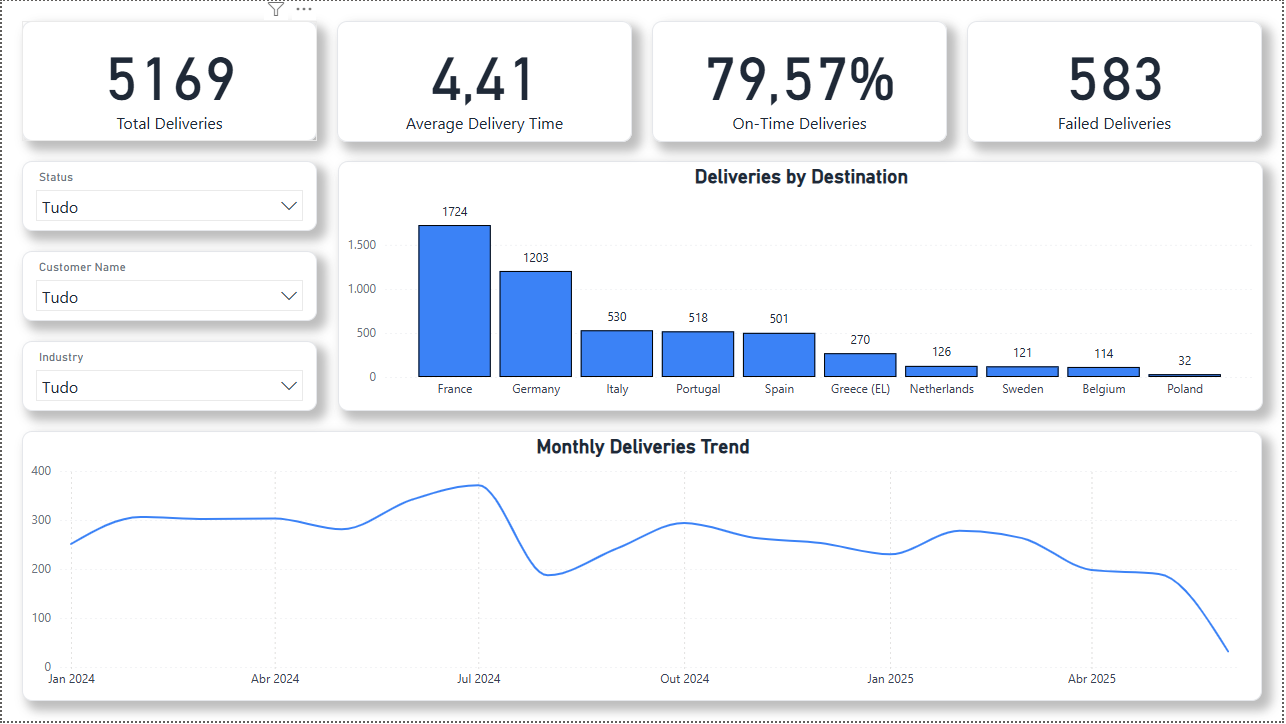

What the dashboard file says about the page in this screenshot:
{"tool":"powerbi","page":{"name":"Delivery Overview","canvas":[1280,720],"ordinal":0},"visuals":[{"type":"card","fields":{"Values":["MeasuresTable.TotalDeliveries"]},"box":[20,20.4,295,120],"z":0},{"type":"columnChart","title":"Deliveries by Destination","fields":{"Category":["Routes.Destination"],"Y":["Deliveries_Clean.Delivery_ID"]},"box":[335.6,160,925,250],"z":1000},{"type":"card","fields":{"Values":["MeasuresTable.Avg_Delivery_Time"]},"box":[335,20.4,295,120.6],"z":2000},{"type":"card","fields":{"Values":["MeasuresTable.%_On-Time_Deliveries"]},"box":[650,20,295,120.6],"z":3000},{"type":"card","fields":{"Values":["MeasuresTable.FailedDeliveries"]},"box":[965,20,295,120.6],"z":4000},{"type":"lineChart","title":"Monthly Deliveries Trend","fields":{"Category":["Deliveries_Clean.Delivery_Date.Variação.Hierarquia de Datas.Ano","Deliveries_Clean.Delivery_Date.Variação.Hierarquia de Datas.Mês"],"Y":["Deliveries_Clean.Delivery_ID"]},"box":[20.4,430,1240,270],"z":5000},{"type":"slicer","fields":{"Values":["Customers.Industry"]},"box":[20.4,340,295,70],"z":6000},{"type":"slicer","fields":{"Values":["Customers.Name"]},"box":[20.4,250,295,70],"z":7000},{"type":"slicer","fields":{"Values":["Deliveries_Clean.Status"]},"box":[20.4,160,295,70],"z":8000}]}

Visuals, with their boxes in screenshot pixels (x1, y1, x2, y2), scaled from the page's 1280x720 canvas onto the 1286x724 screenshot:
card - MeasuresTable.TotalDeliveries: box(20, 21, 316, 141)
"Deliveries by Destination" columnChart: box(337, 161, 1267, 412)
card - MeasuresTable.Avg_Delivery_Time: box(337, 21, 633, 142)
card - MeasuresTable.%_On-Time_Deliveries: box(653, 20, 949, 141)
card - MeasuresTable.FailedDeliveries: box(970, 20, 1266, 141)
"Monthly Deliveries Trend" lineChart: box(20, 432, 1266, 704)
slicer - Customers.Industry: box(20, 342, 317, 412)
slicer - Customers.Name: box(20, 251, 317, 322)
slicer - Deliveries_Clean.Status: box(20, 161, 317, 231)
